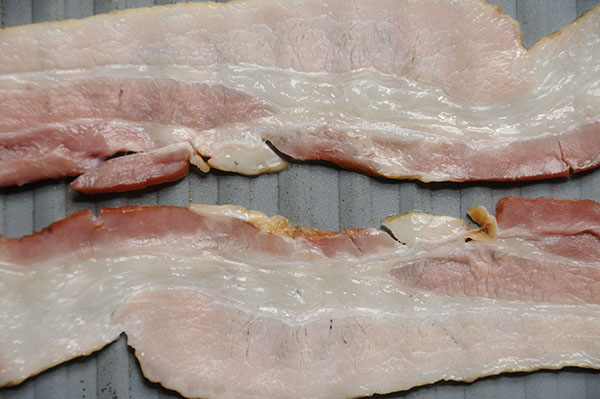bacon: (13, 207, 600, 379), (16, 11, 560, 169)
